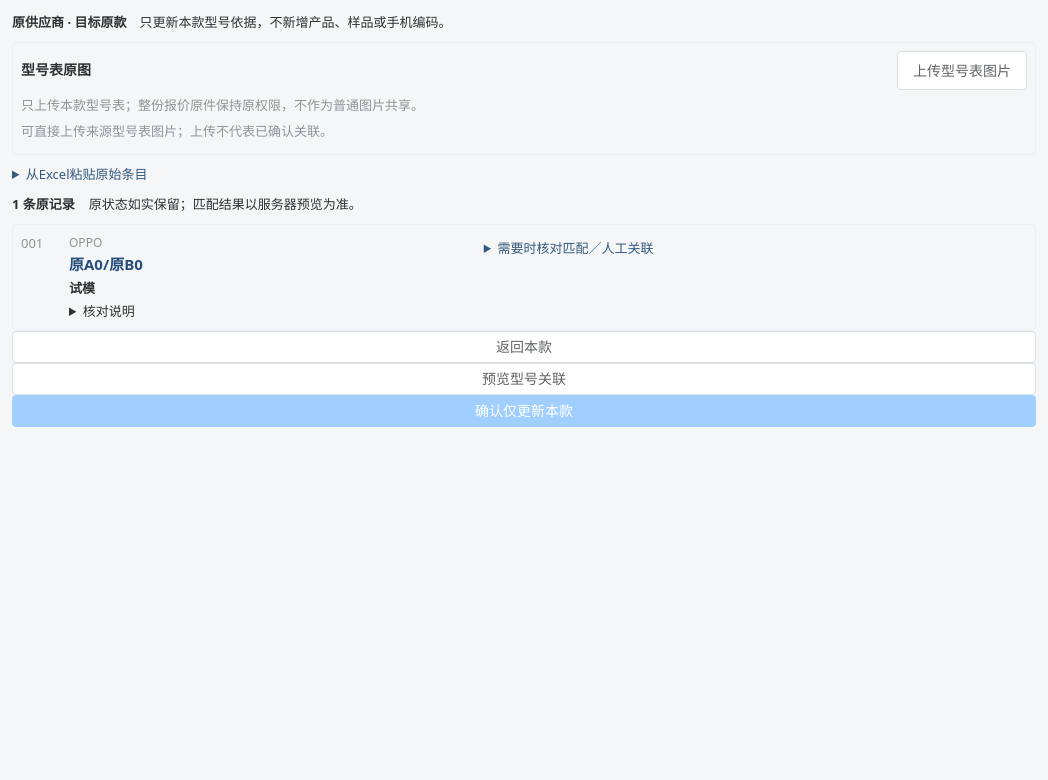
it: single-style source model sheet preview and confirmation › explicitly previews preserved independent links and old model-sheet links being removed rather than implying every old association is retained
Click the button "预览型号关联" at {"x": 524, "y": 379}, box [12,363,1036,395]
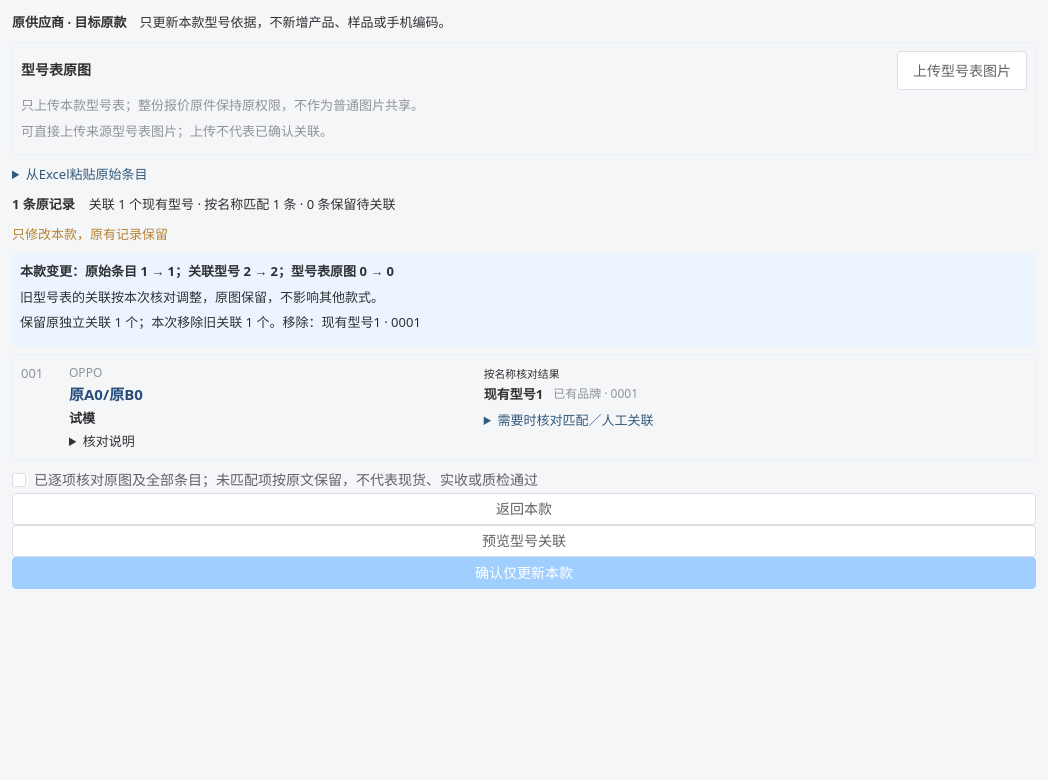
Check: the element with class "model-sheet-scope-delta" shows "保留原独立关联 1 个", box [20,313,282,331]
Check: the element with class "model-sheet-scope-delta" shows "本次移除旧关联 1 个", box [20,313,282,331]
Check: the element with class "model-sheet-scope-delta" shows "现有型号1 · 0001", box [282,313,421,331]
